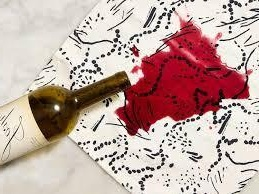wine: (128, 29, 239, 128)
